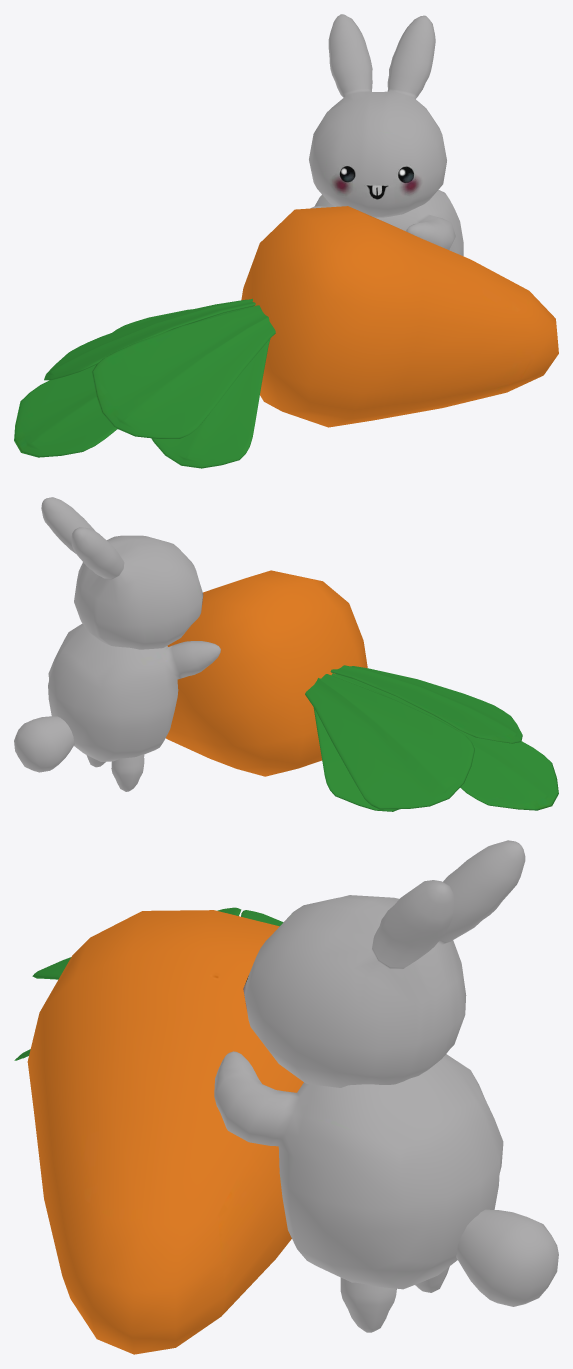
The model's file is bunny-transformed.glb.
The picture shows the model from 3 angles, top to bottom: view 1: azimuth 30°, elevation 25°; view 2: azimuth 150°, elevation 25°; view 3: azimuth 270°, elevation 25°; orthographic projection. The views are drawn at different scales.
Parts seen in each view (by area): view 1: defaultMaterial; view 2: defaultMaterial; view 3: defaultMaterial.
Boxes of the visible parts, left/top/right/bottom form: defaultMaterial: left=14, top=14, right=558, bottom=468; defaultMaterial: left=14, top=497, right=558, bottom=811; defaultMaterial: left=14, top=840, right=558, bottom=1354.
Bounding box in the file's own units: 2.61 × 1.48 × 1.53.
Materials: 1 (1 with a texture image).
